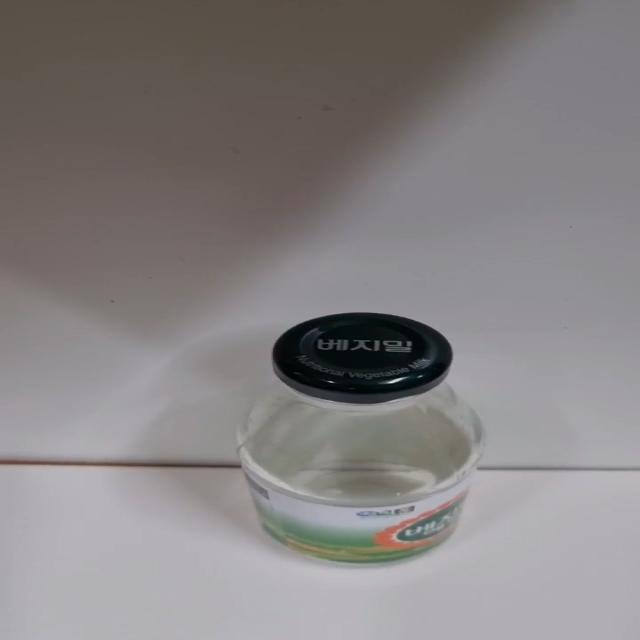Glass: (228, 312, 486, 566)
